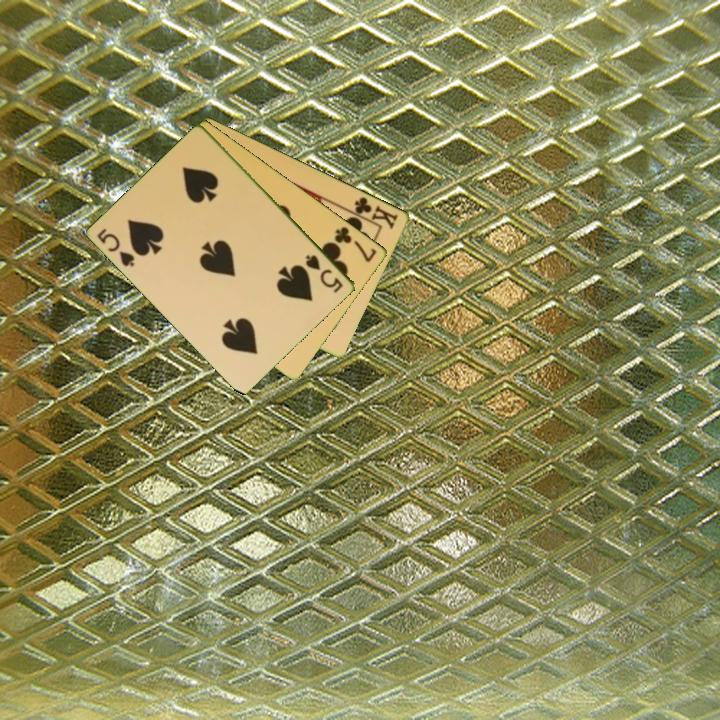5s: (302, 251, 346, 296), (94, 225, 138, 270)
7c: (331, 223, 380, 265)
Kc: (345, 193, 402, 232)
